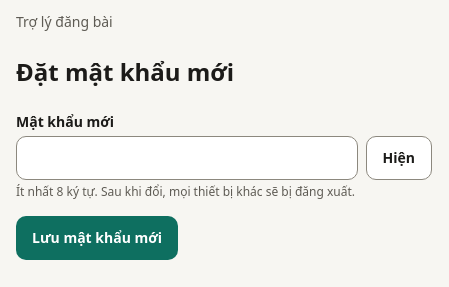
ResetPasswordPage › TOKEN_INVALID → thông báo + "Gửi lại liên kết"
In the password field labelled "Mật khẩu mới": (187, 158) [16,136,358,180], type "Mat-khau-moi-rat-manh"
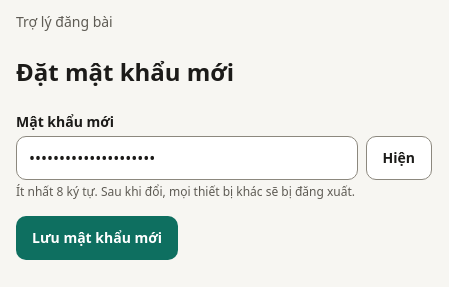
Click the button "Lưu mật khẩu mới": click(97, 238) [16,216,178,260]
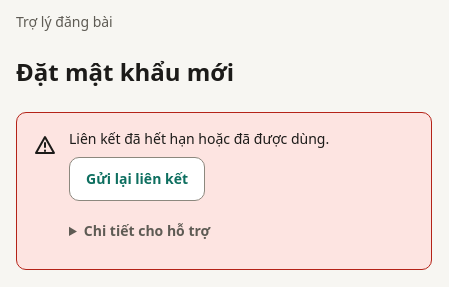
Expected: the text "Liên kết đã hết hạn hoặc đã được dùng." is shown, [69,129,329,148]
